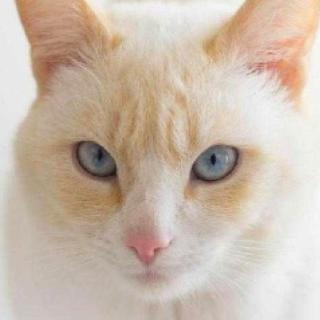cat: (12, 0, 317, 303)
nose: (109, 184, 192, 266)
